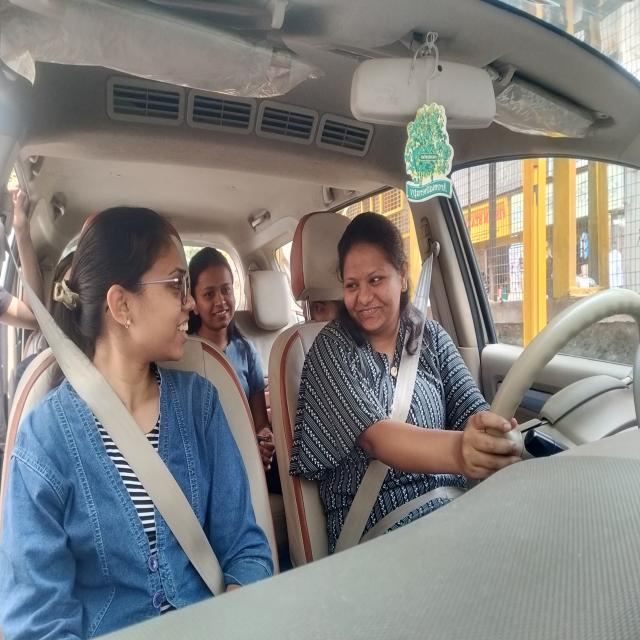LeftRight: (334, 213, 408, 337)
person: (73, 208, 197, 374), (184, 244, 245, 338), (305, 296, 344, 328)
talking: (173, 316, 195, 343), (356, 303, 385, 321)
